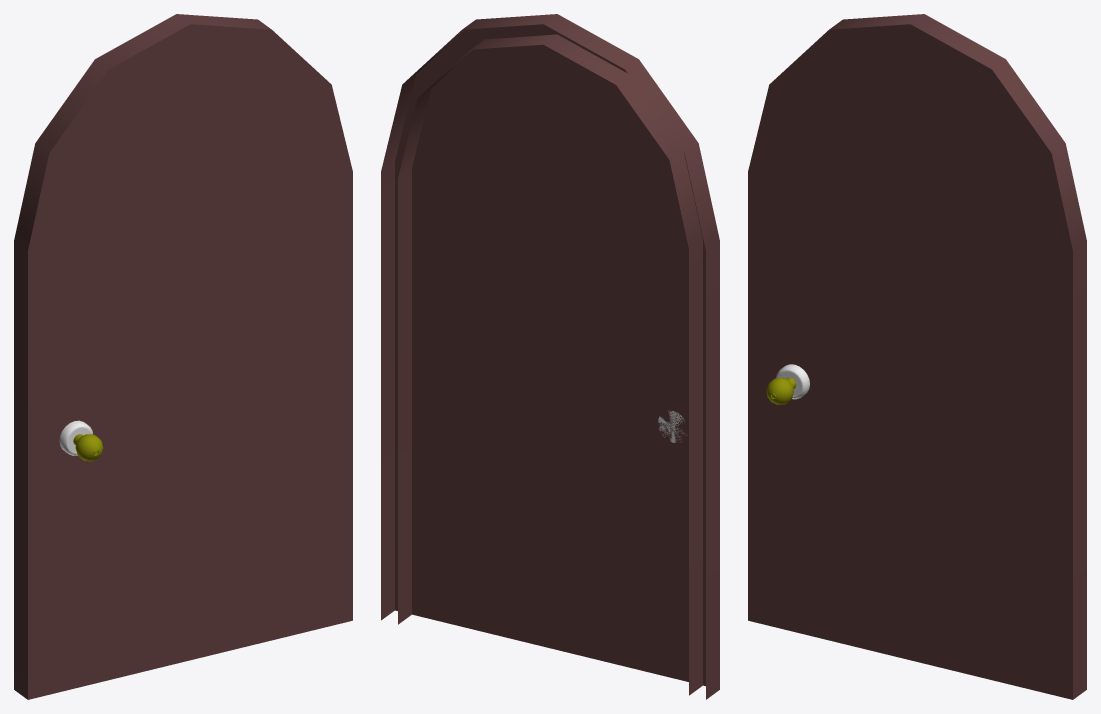
The model's file is Puertalimpieza.fbx.
3 renders of one model, left to right at view 1: azimuth 30°, elevation 25°; view 2: azimuth 150°, elevation 25°; view 3: azimuth 330°, elevation 25°, orthographic.
Parts seen in each view (by area): view 1: puertalimpieza; view 2: puertalimpieza; view 3: puertalimpieza.
Part boxes in pixels (box(x1,y1,x2,y2)): puertalimpieza: box(14, 14, 352, 699); puertalimpieza: box(381, 14, 719, 699); puertalimpieza: box(748, 14, 1086, 699).
Size of the model in its own units: 140 by 261 by 26.31.
